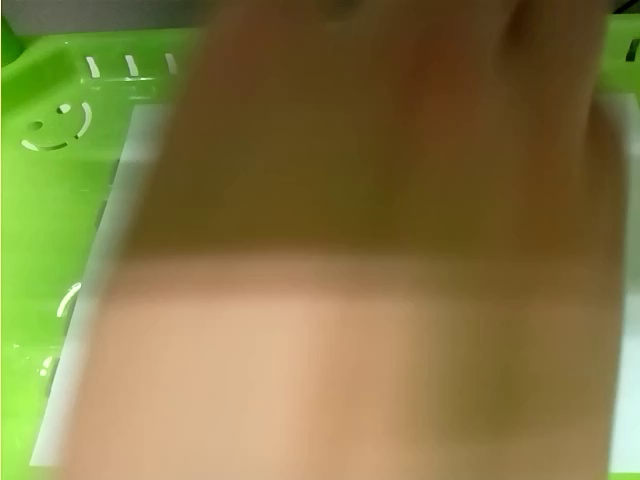hand: (106, 4, 628, 480)
